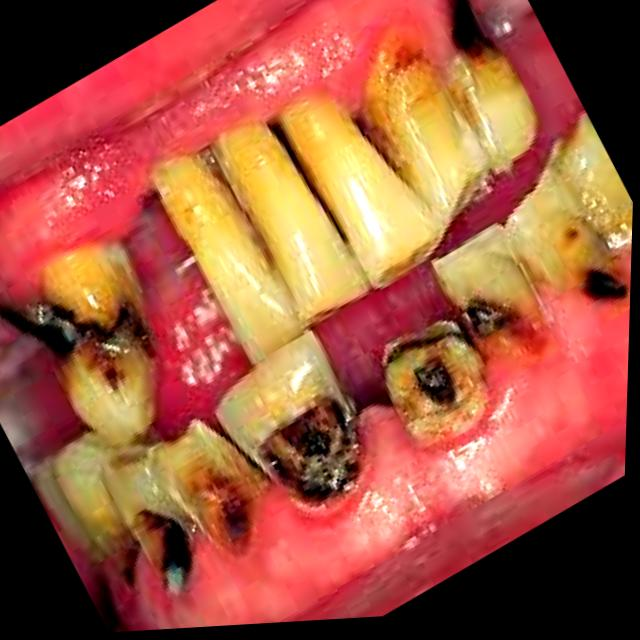cariess: (2, 245, 157, 445), (217, 330, 363, 507), (123, 426, 250, 591), (437, 225, 548, 353), (385, 321, 490, 445), (550, 225, 629, 301), (452, 0, 517, 88)
